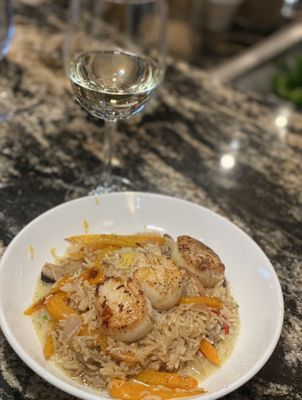sushi: (3, 192, 285, 400)
